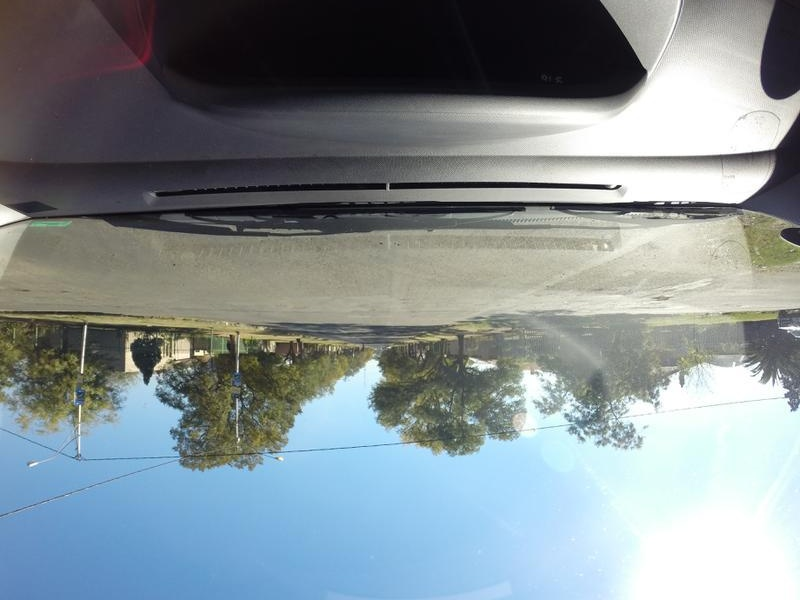pothole: (641, 286, 673, 303)
